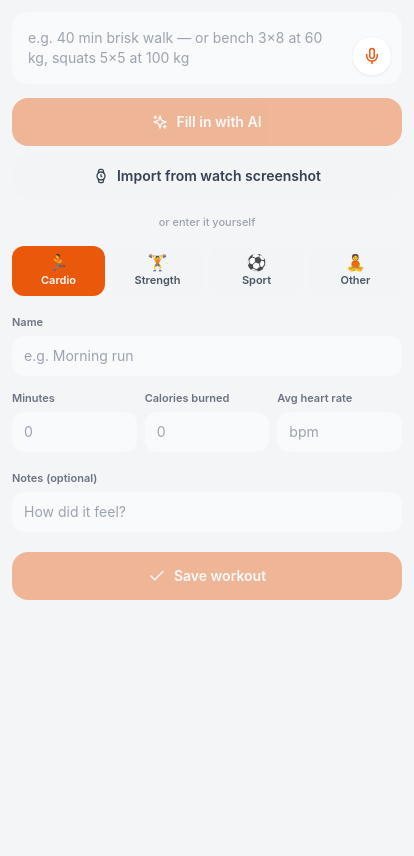
it: WorkoutForm › logs a manual workout, estimating calories from the duration
This screenshot has width=414, height=856.
Later steps or results of the test are not shown.
Type "Evening run" into the field with placeholder "e.g. Morning run" at (207, 356), box x1=12 y1=336 x2=402 y2=376
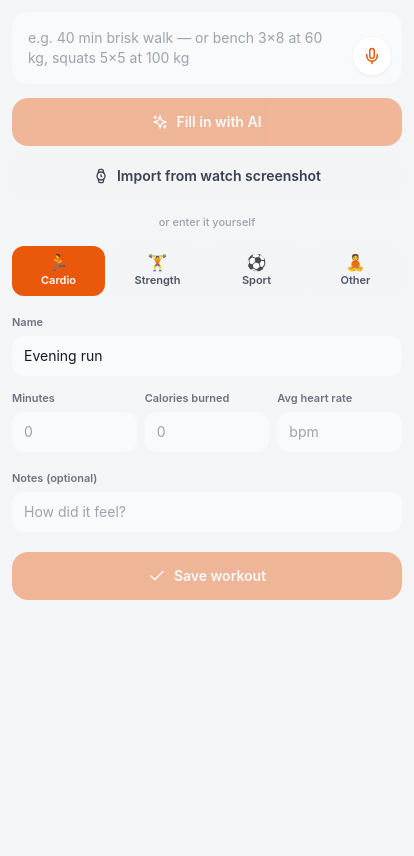
Type "30" into the number field labelled "Minutes" at (74, 432), box x1=12 y1=412 x2=137 y2=452
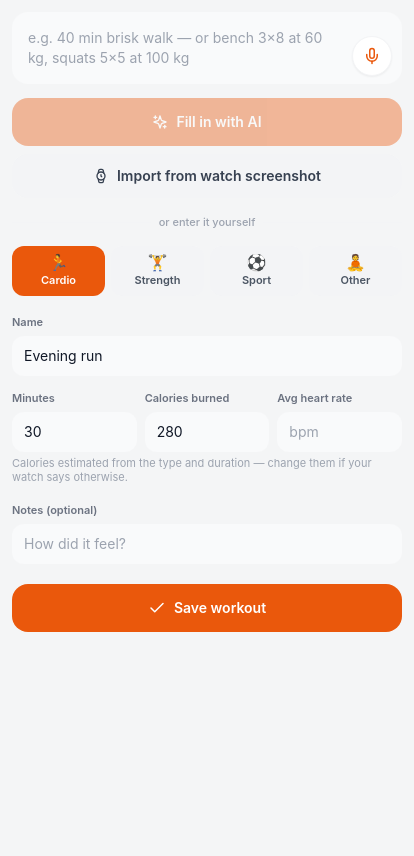
Check: the number field showing "280" is shown, box x1=145 y1=412 x2=269 y2=452
Click the button "Save workout" at (207, 608), box x1=12 y1=584 x2=402 y2=632
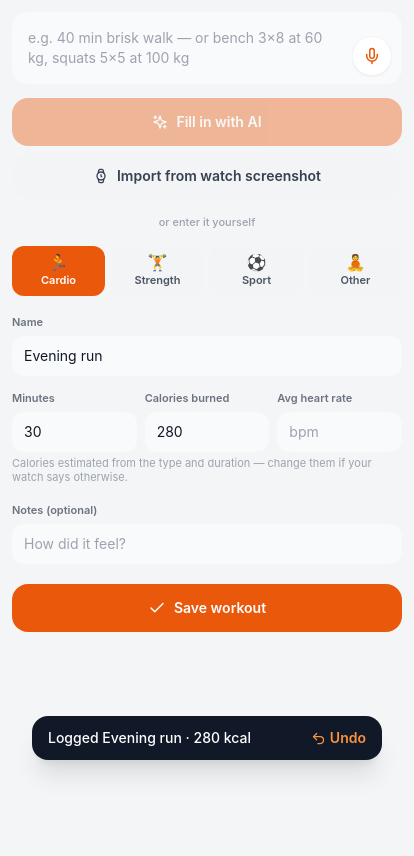
Check: the text "Logged Evening run · 280 kcal" is shown, box x1=48 y1=729 x2=251 y2=746
